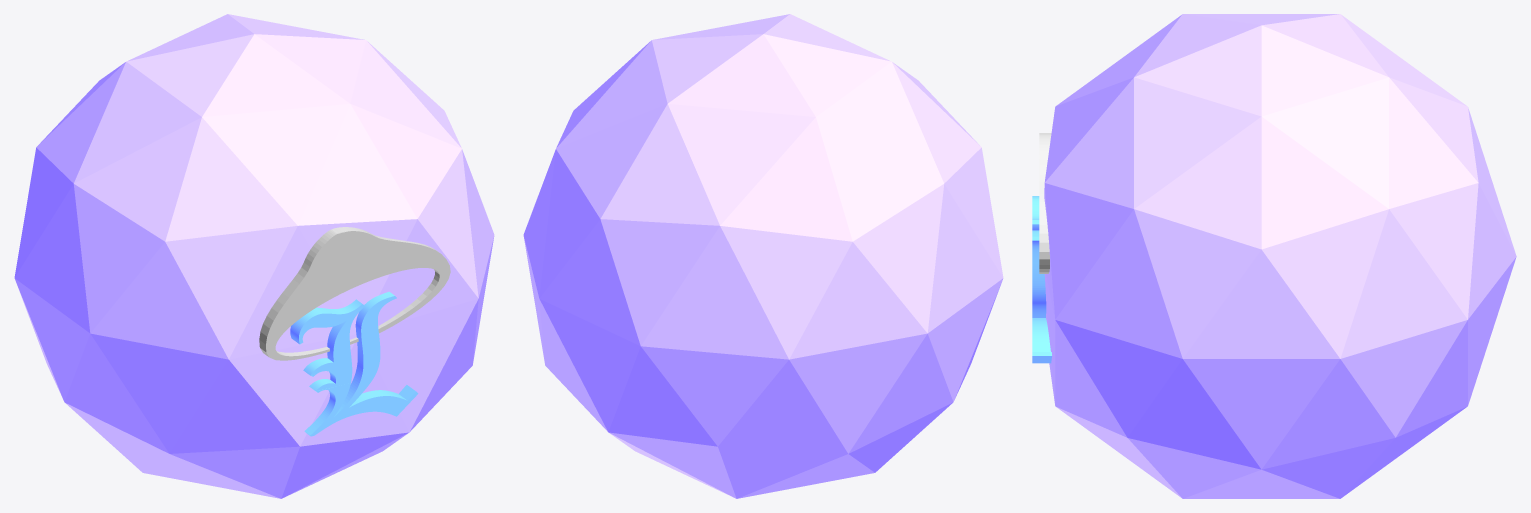
File: Lushroom2.gltf
3 views of the same model, side by side, from view 1: azimuth 30°, elevation 25°; view 2: azimuth 150°, elevation 25°; view 3: azimuth 270°, elevation 25° (orthographic). The views are drawn at different scales.
Parts seen in each view (by area): view 1: Icosphere, Curve, Curve.001; view 2: Icosphere; view 3: Icosphere, Curve.001, Curve.
Part boxes in pixels (x1,y1,x2,y2): Icosphere: (14,14,494,498); Curve: (259,227,450,360); Curve.001: (290,291,418,436); Icosphere: (523,14,1003,498); Icosphere: (1044,14,1516,498); Curve.001: (1032,196,1051,363); Curve: (1039,133,1051,273).
Bounding box in the file's own units: 1.9 × 1.97 × 1.9.
